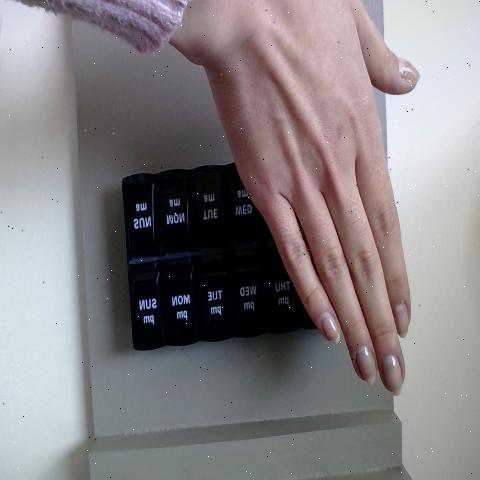Hands: (255, 5, 448, 399)
MON-am: (156, 172, 192, 252)
MON-pm: (164, 265, 198, 340)
SUN-am: (126, 177, 158, 258)
SUN-pm: (130, 258, 164, 349)
TUE-am: (192, 164, 223, 254)
TUE-pm: (198, 254, 232, 341)
WED-pm: (229, 253, 264, 337)
